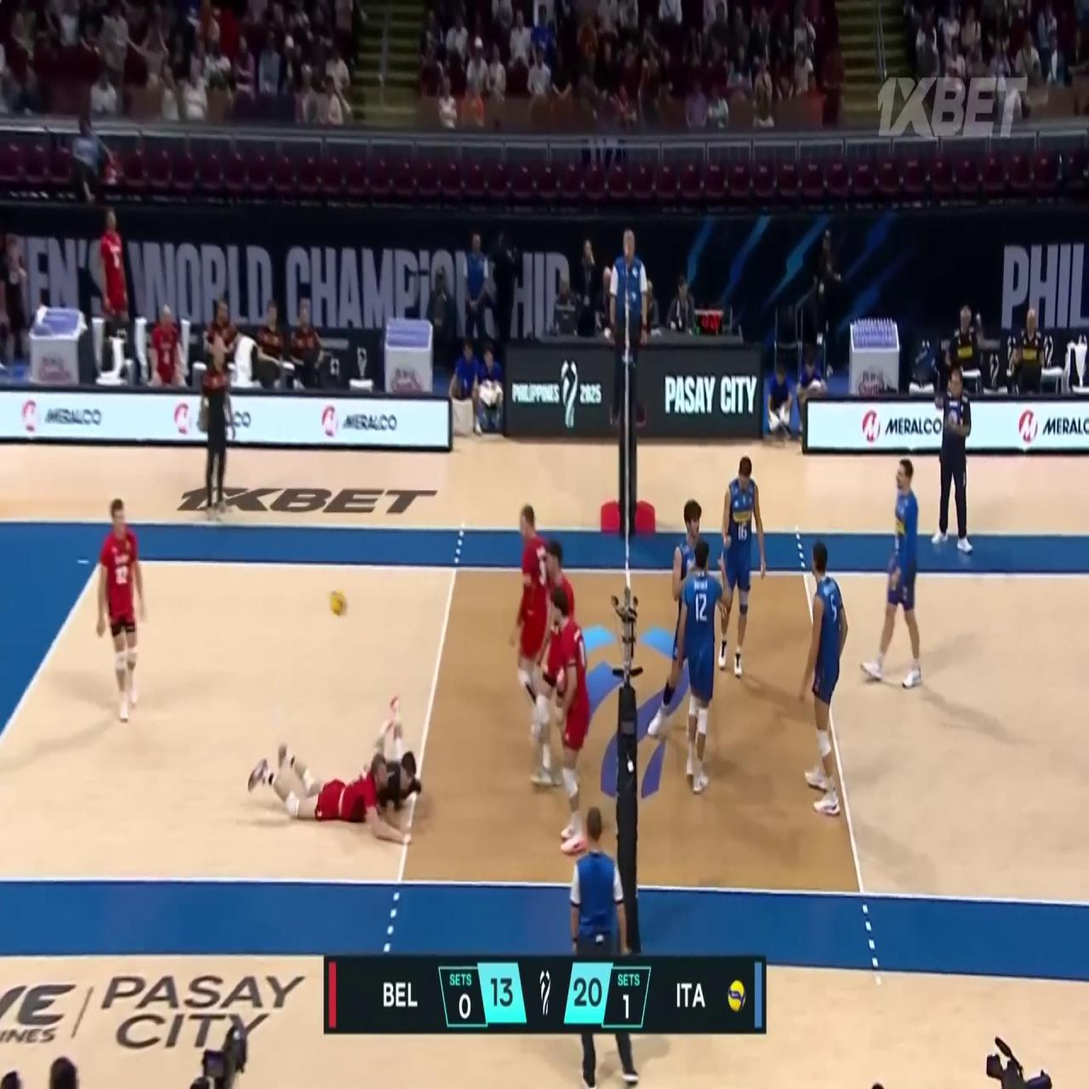ball: (328, 589, 346, 618)
